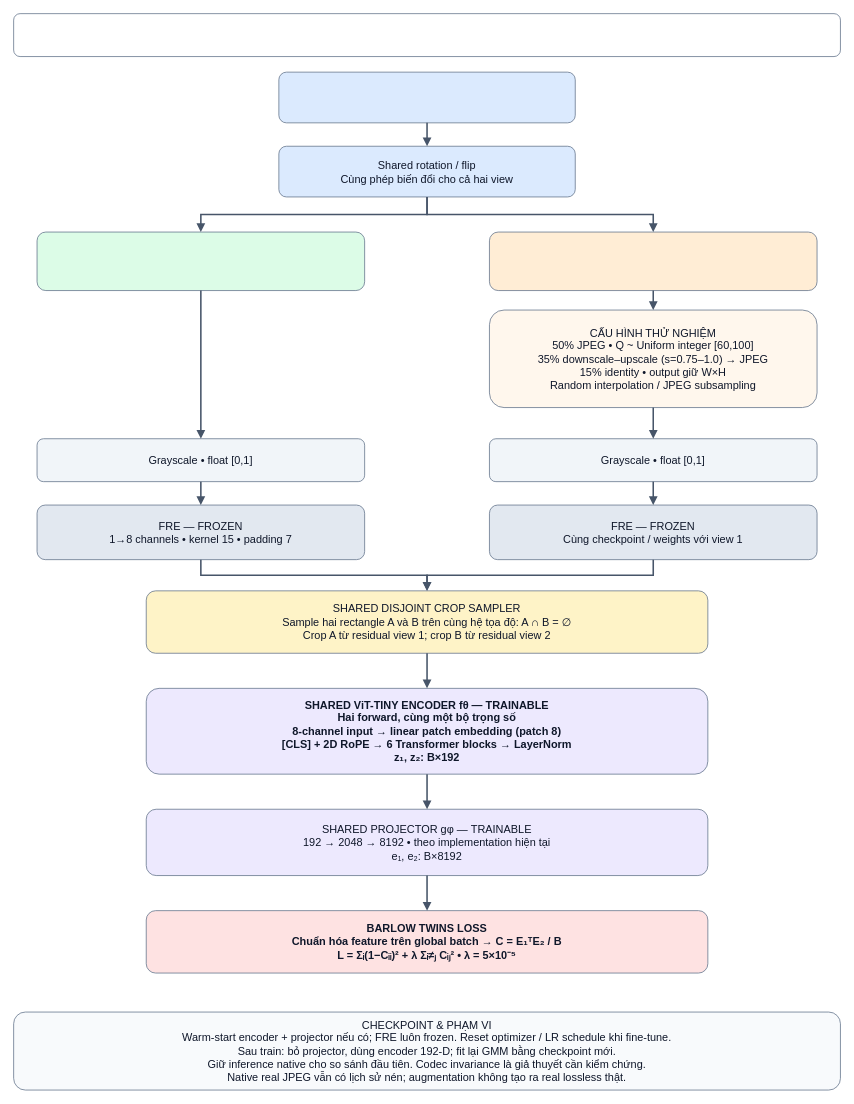
Some shapes in this 854 by 1104 pixel diagram are drawn without their labels. Here are the shapes that lost their labels. From the top down, the centre of each, then its label:
[426,35]: FORENSIC TWINS — NATIVE vs RANDOM CODEC Bản nháp v1 • SSL chỉ dùng ảnh real
[426,97]: Ảnh real RGB • giữ kích thước gốc Decode → RGB [0,1]
[200,261]: VIEW 1 — NATIVE Identity: không re-encode / resize
[653,261]: VIEW 2 — RANDOM PROCESSING Sample policy riêng cho từng ảnh
